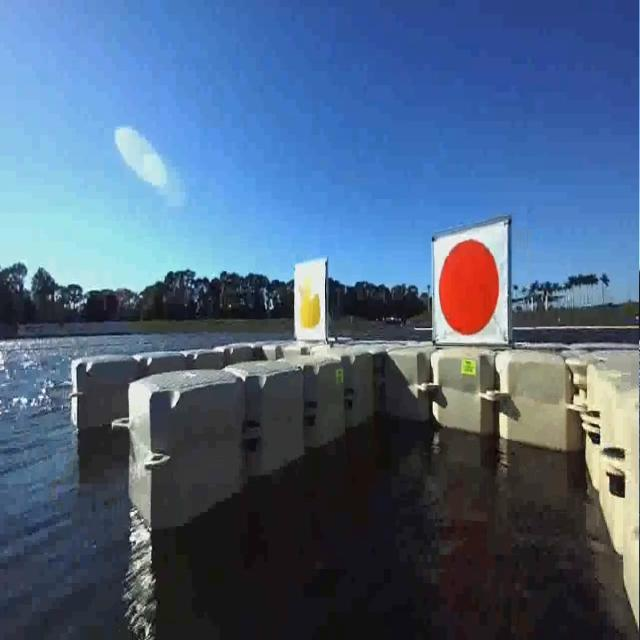red-dot: (434, 230, 507, 342)
yellow-duck: (296, 268, 324, 340)
